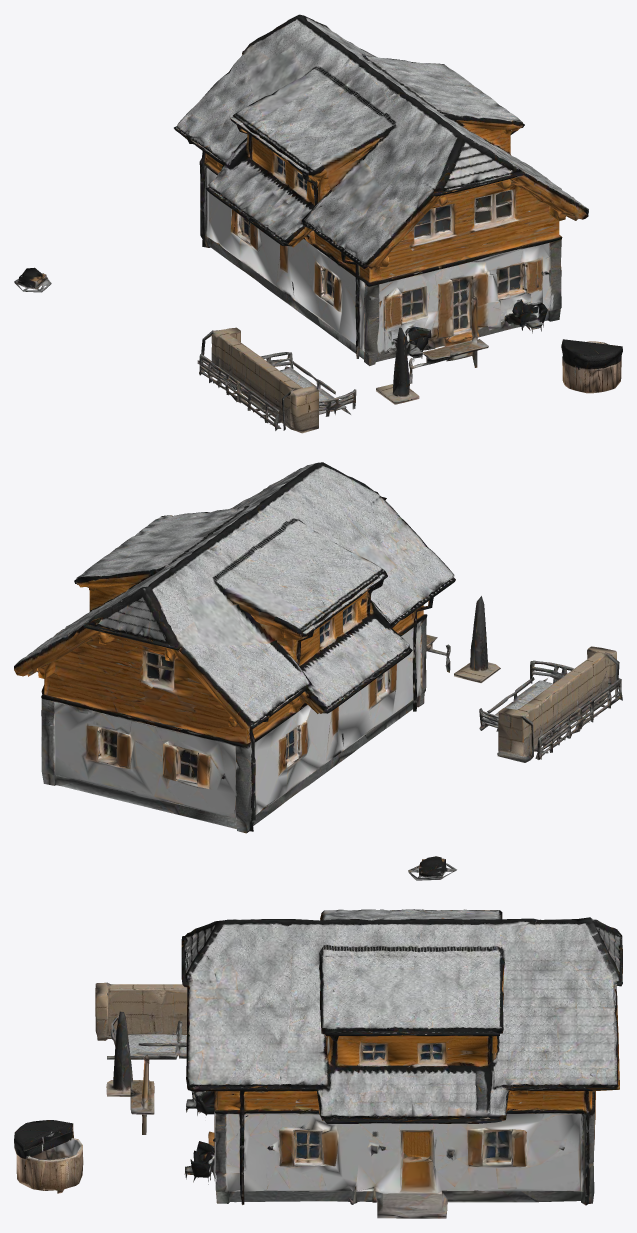
Rendered from chalet_lo.glb.
The picture shows the model from 3 angles, top to bottom: view 1: azimuth 30°, elevation 25°; view 2: azimuth 150°, elevation 25°; view 3: azimuth 270°, elevation 25°; orthographic projection. The views are drawn at different scales.
Bounding box in the file's own units: 1.69 × 0.8033 × 1.9.
1 material, 1 textured.
